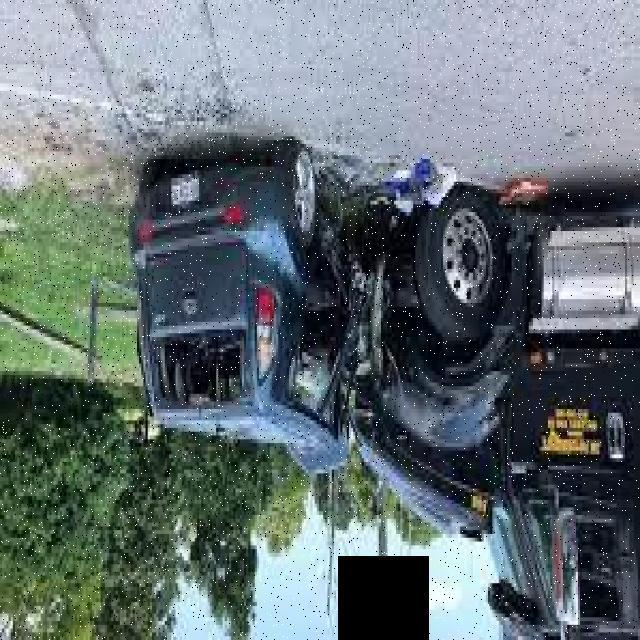severe: (126, 133, 639, 640)
